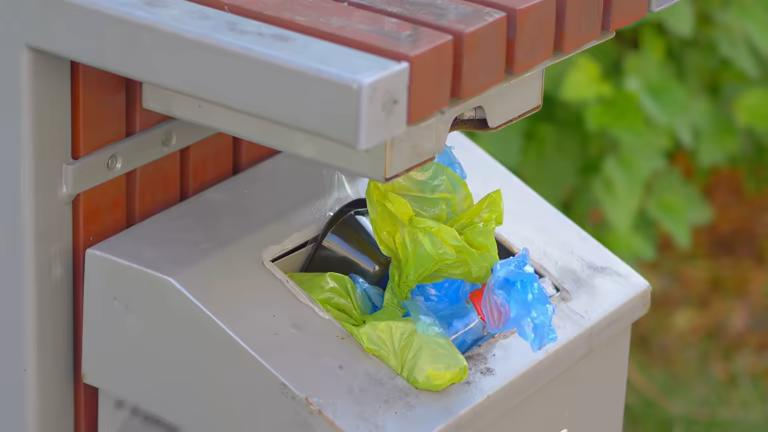trash: (240, 154, 582, 363)
trash_can_overflow: (0, 0, 694, 432)
